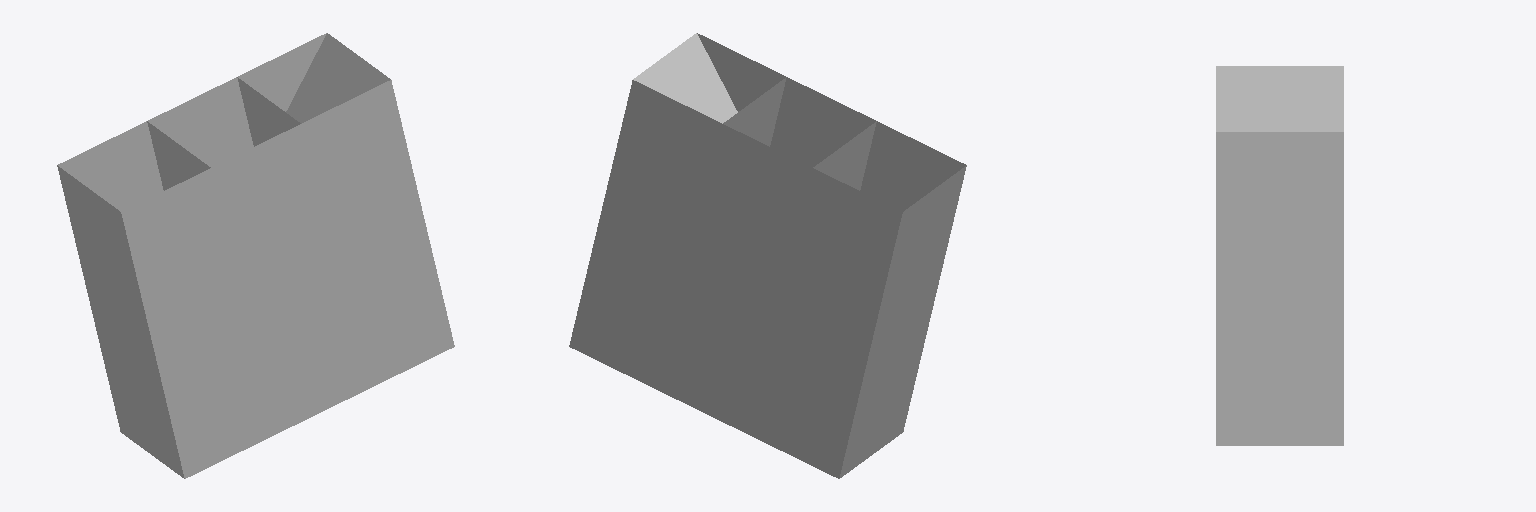
Rendered from 3d_Ashenvale - Hellscream Fire 4.wlw.obj.
The picture shows the model from 3 angles: view 1: azimuth 30°, elevation 25°; view 2: azimuth 150°, elevation 25°; view 3: azimuth 270°, elevation 25°; orthographic projection.
Bounding box in the file's own units: 30.06 × 30.06 × 10.